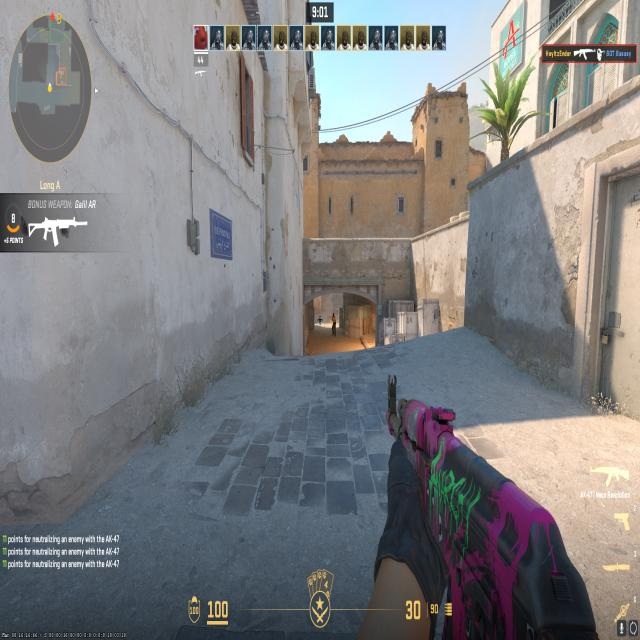t: (329, 310, 339, 337)
